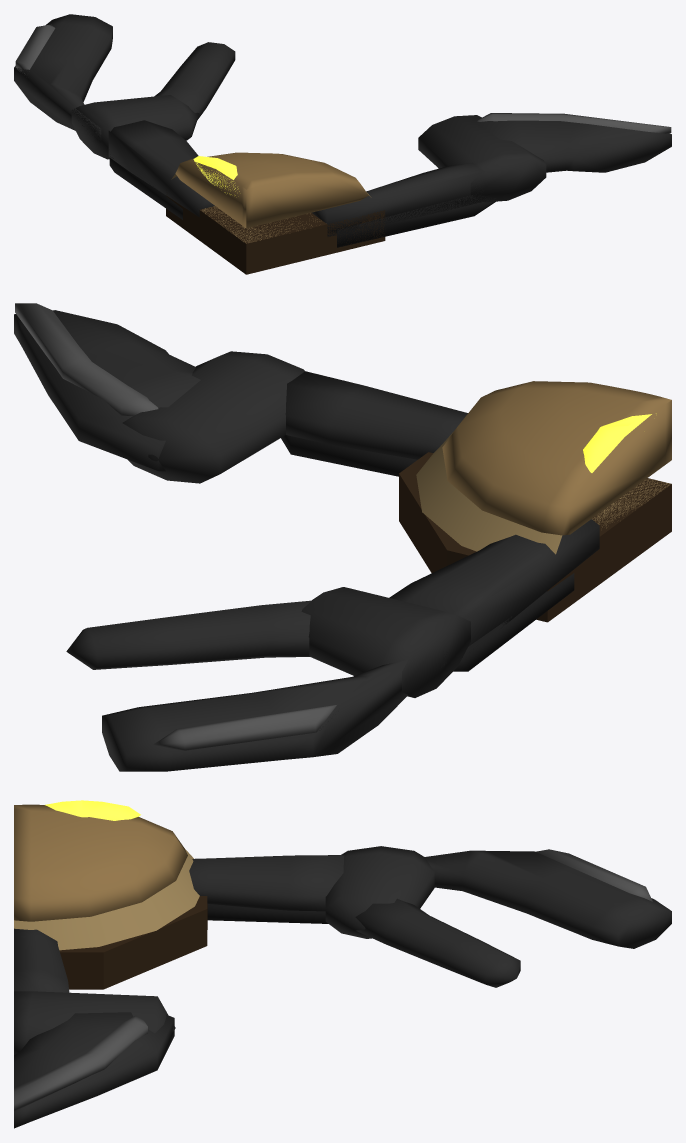
File: newsh-hash-3-f6.glb
3 views of the same model, one above another, from view 1: azimuth 30°, elevation 25°; view 2: azimuth 150°, elevation 25°; view 3: azimuth 270°, elevation 25° (orthographic). The views are drawn at different scales.
Parts seen in each view (by area): view 1: newsh-hash-3-f6; view 2: newsh-hash-3-f6; view 3: newsh-hash-3-f6.
Boxes of the visible parts, x1,y1,x2,y2 form: newsh-hash-3-f6: [14, 14, 671, 274]; newsh-hash-3-f6: [14, 303, 671, 771]; newsh-hash-3-f6: [14, 800, 671, 1128].
Size of the model in its own units: 1.45 by 0.289 by 1.61.
